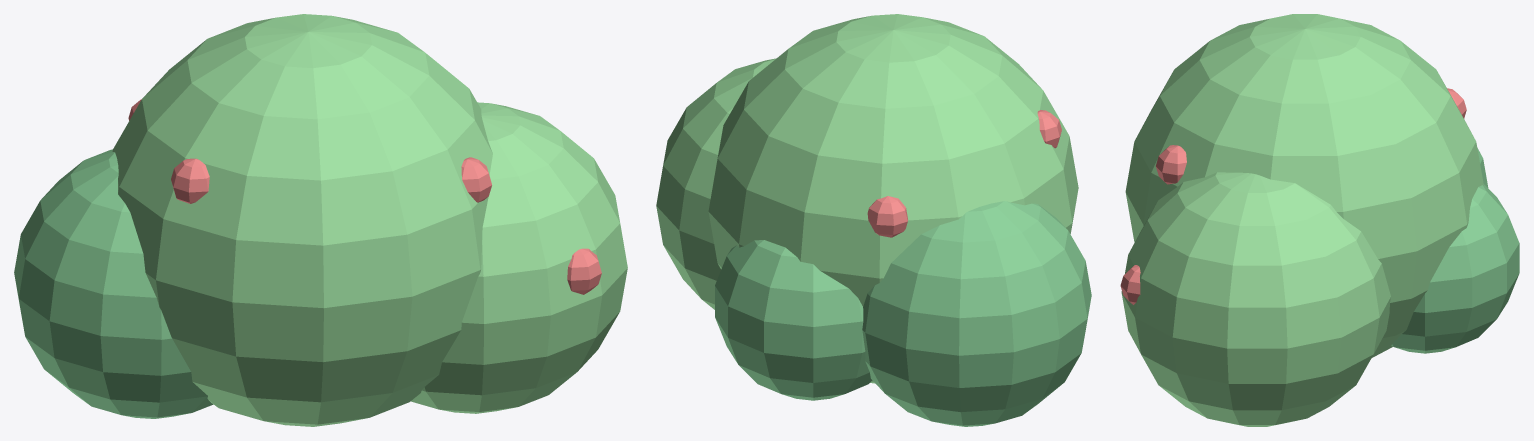
Rendered from bush.glb.
3 views of the same model, side by side, from view 1: azimuth 30°, elevation 25°; view 2: azimuth 150°, elevation 25°; view 3: azimuth 270°, elevation 25° (orthographic). The views are drawn at different scales.
Visible parts, largest first — view 1: BushGreen, BushGreen2, BushBerry; view 2: BushGreen, BushGreen2, BushBerry; view 3: BushGreen, BushGreen2, BushBerry.
Part boxes in pixels (left/top/right/bottom): BushGreen: left=112, top=14, right=627, bottom=426; BushGreen2: left=14, top=149, right=213, bottom=418; BushBerry: left=128, top=99, right=601, bottom=294; BushGreen: left=656, top=14, right=1078, bottom=383; BushGreen2: left=715, top=201, right=1091, bottom=426; BushBerry: left=867, top=110, right=1061, bottom=237; BushGreen: left=1121, top=14, right=1483, bottom=426; BushGreen2: left=1391, top=148, right=1519, bottom=353; BushBerry: left=1120, top=88, right=1466, bottom=304.
Bounding box in the file's own units: 1.26 × 0.91 × 0.9991.
